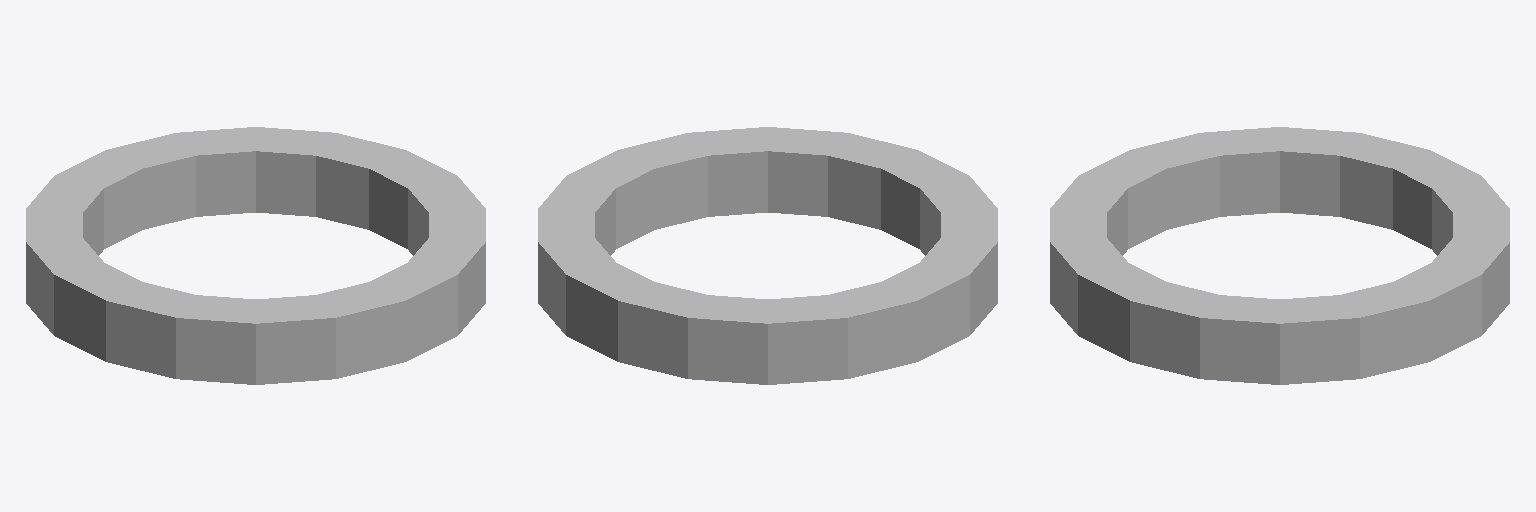
Rendered from cylinder with hole.obj.
3 renders of one model, left to right at view 1: azimuth 30°, elevation 25°; view 2: azimuth 150°, elevation 25°; view 3: azimuth 270°, elevation 25°, orthographic.
Parts seen in each view (by area): view 1: Cylinder001; view 2: Cylinder001; view 3: Cylinder001.
Part boxes in pixels (x1,y1,x2,y2): Cylinder001: (26, 127, 485, 384); Cylinder001: (538, 127, 997, 384); Cylinder001: (1050, 127, 1509, 384).
Size of the model in its own units: 2 by 0.2904 by 1.97.